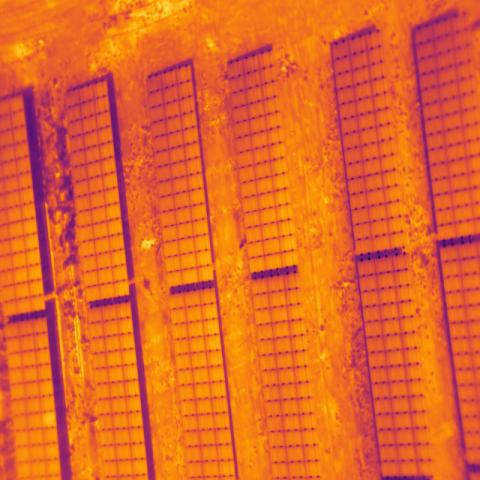fault: (40, 411, 56, 429)
